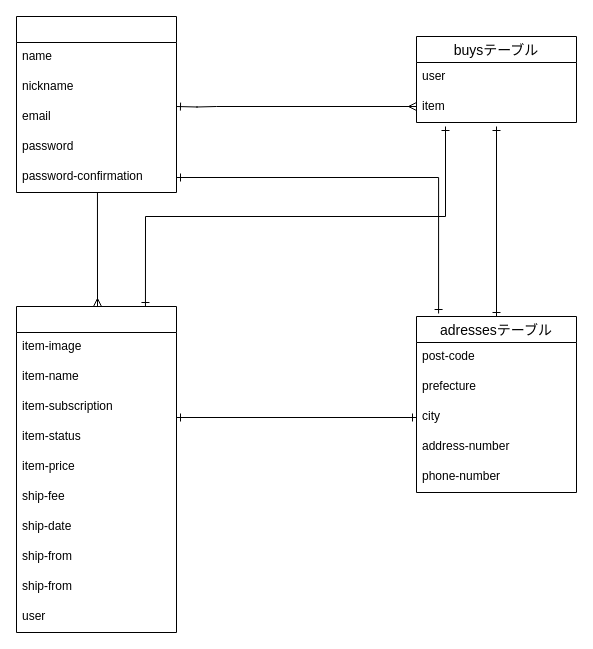
Image size: 593x649. Some labels were removed from this diagram. Here are the shapes that lost their labels. From the top down, the box of each, then its label:
(16, 16, 176, 192): usersテーブル
(16, 306, 176, 632): itemsテーブル
